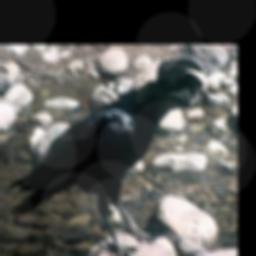Crow: (8, 55, 209, 256)
